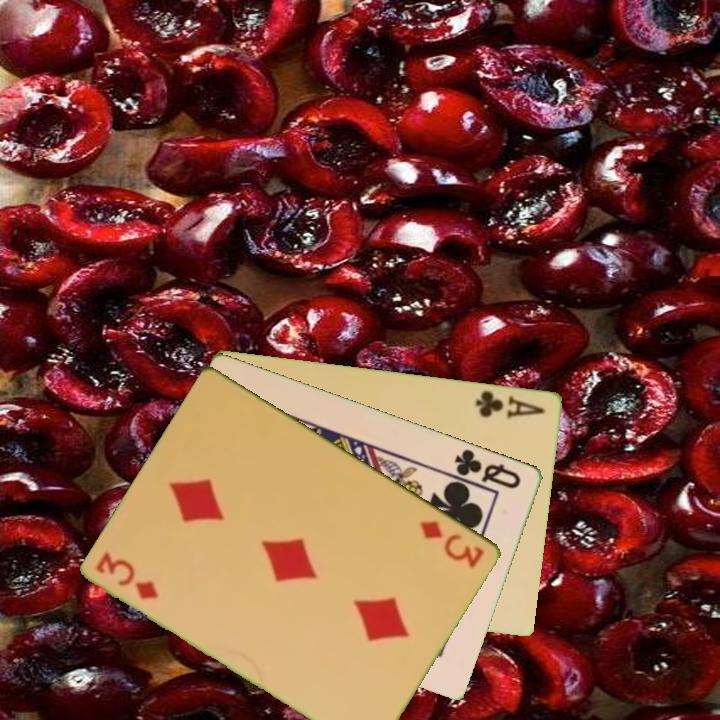3d: (416, 516, 488, 571), (92, 548, 162, 603)
Ac: (472, 386, 548, 421)
Qc: (451, 445, 525, 492)
